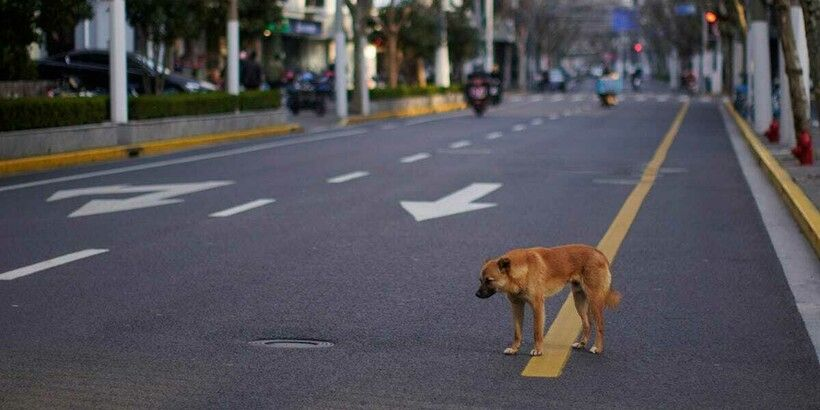kopek: (465, 243, 621, 370)
